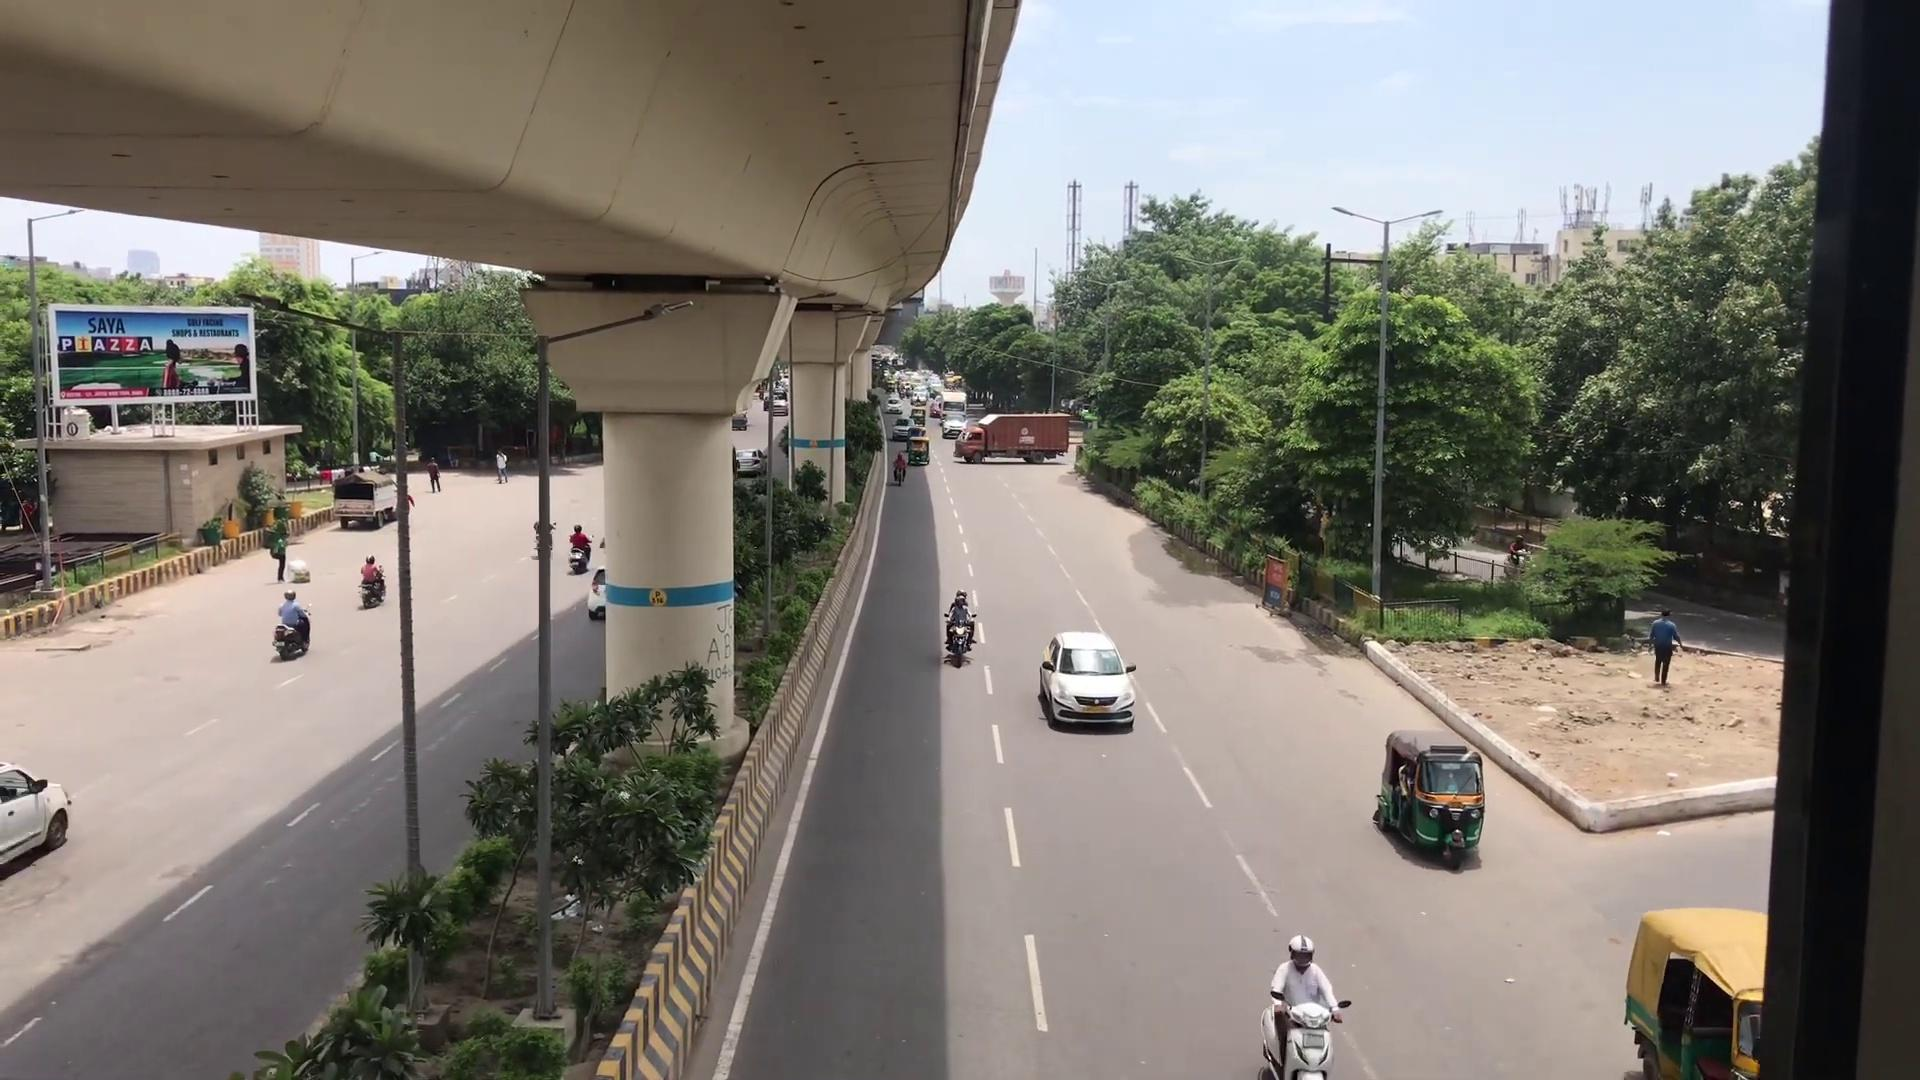Auto: (1374, 727, 1487, 861)
Bike: (1258, 928, 1344, 1080), (270, 585, 314, 666), (942, 578, 978, 665), (352, 551, 393, 615)
Car: (1038, 625, 1135, 731), (1, 756, 70, 873)
